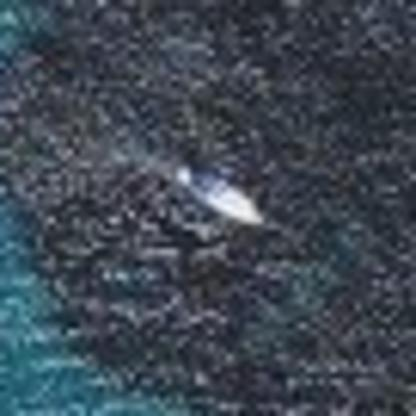ship: (158, 154, 273, 235)
